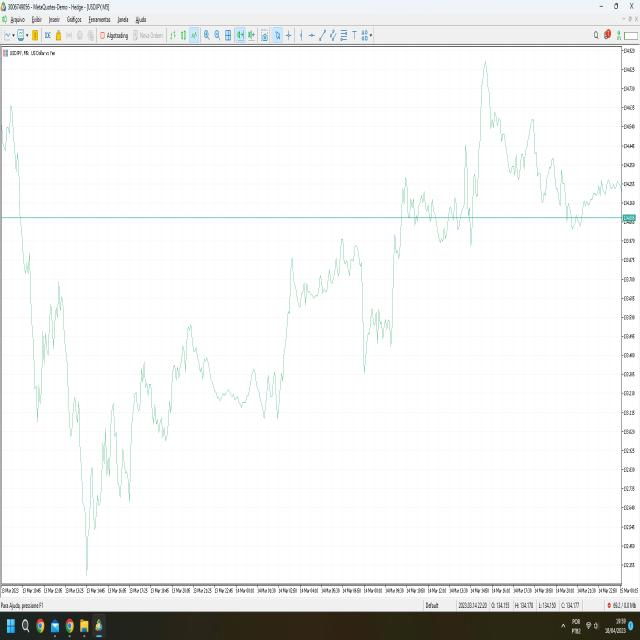fundo_duplo: (250, 341, 289, 432)
oco: (164, 312, 220, 398)
